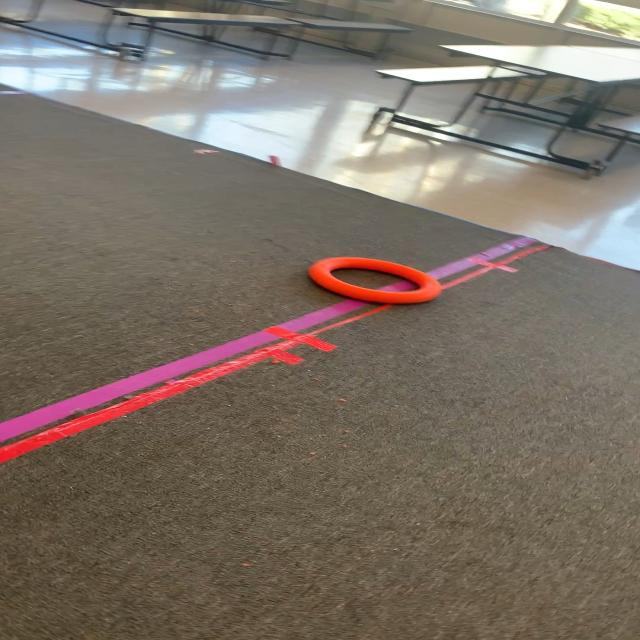notes: (312, 256, 442, 304)
